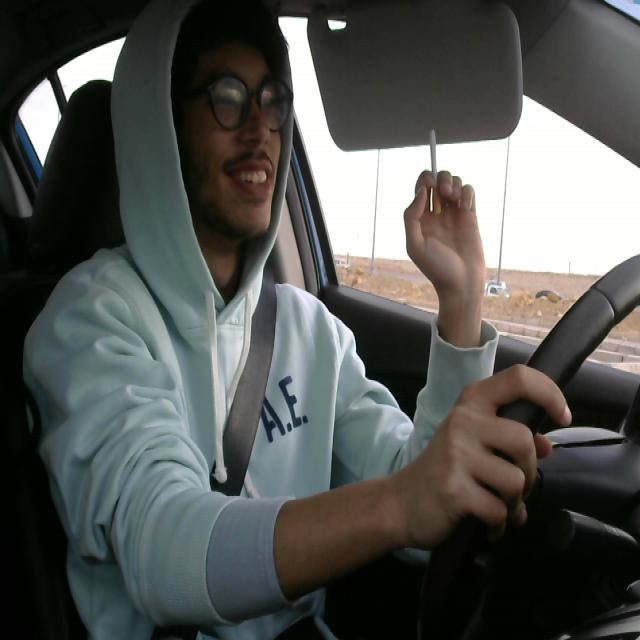smoking: (424, 126, 447, 220)
